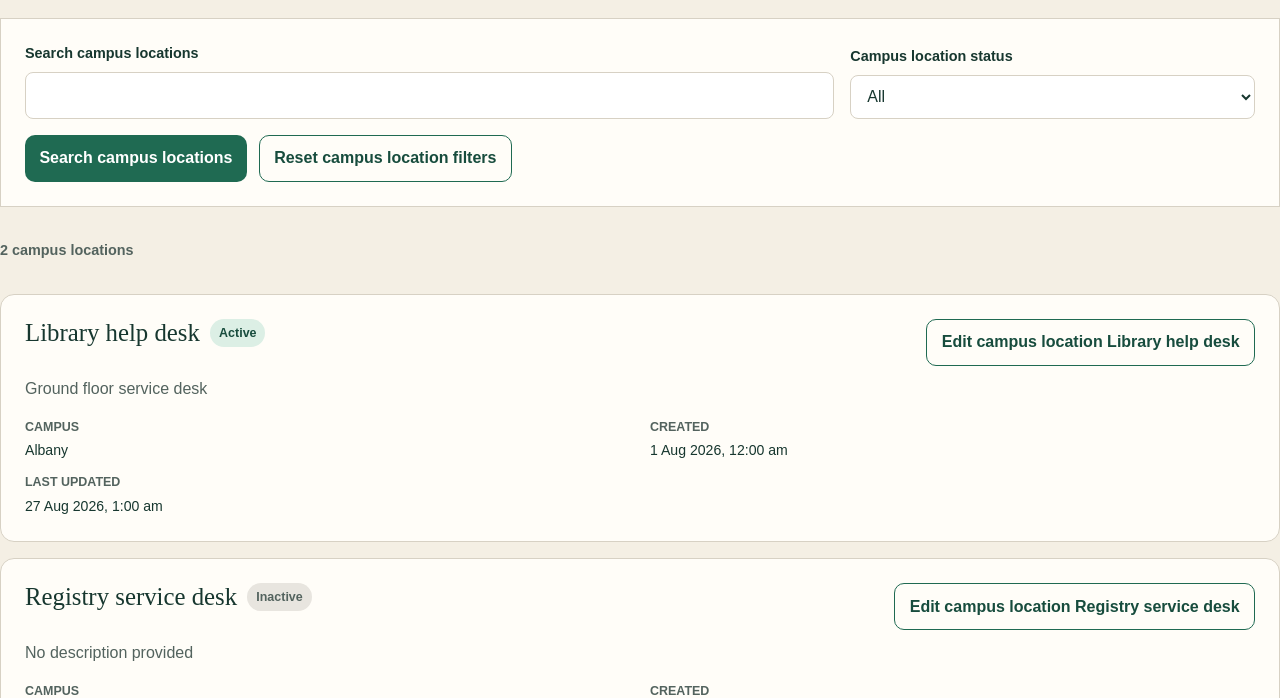
Test case: closes a missing editor, refreshes the list and keeps duplicate drafts
(page scrolled)
Expected: the heading "Library help desk" is shown, [25,319,200,347]
Click the button "Edit campus location Library help desk" at (1091, 342), box [926,319,1255,366]
(page scrolled)
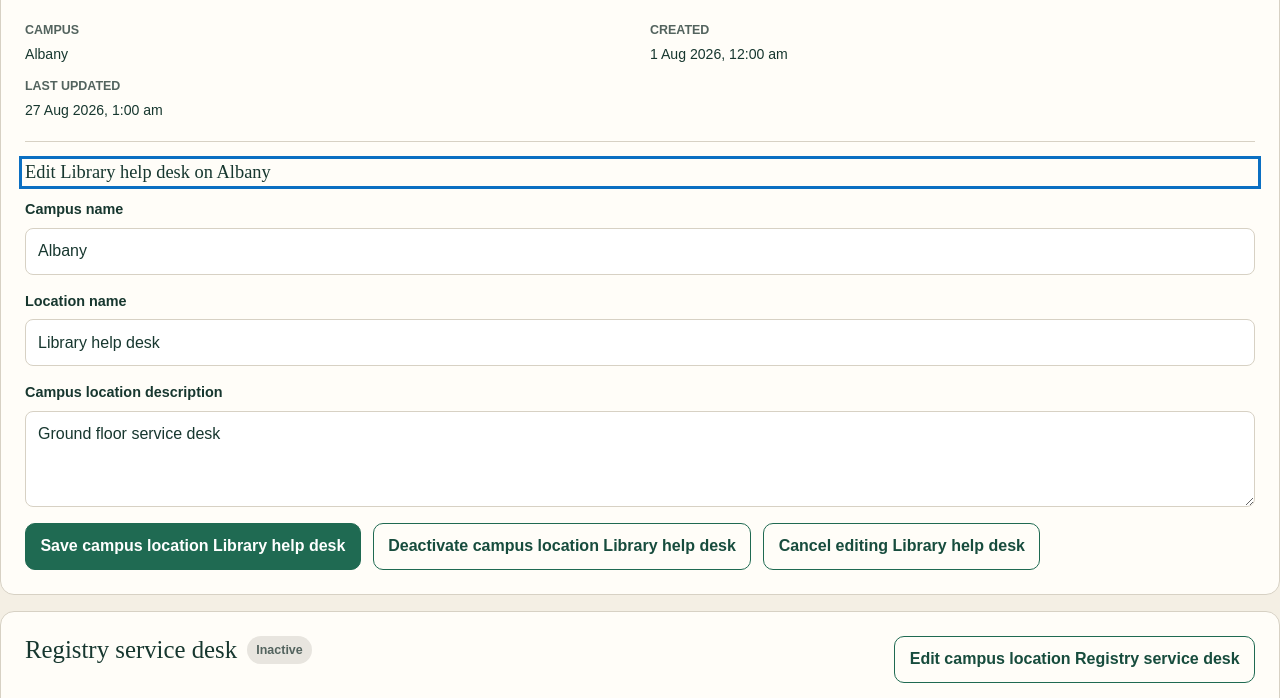
Replace the text in the field labelled "Location name" with "Registry service desk" at (640, 343), box [25,320,1255,366]
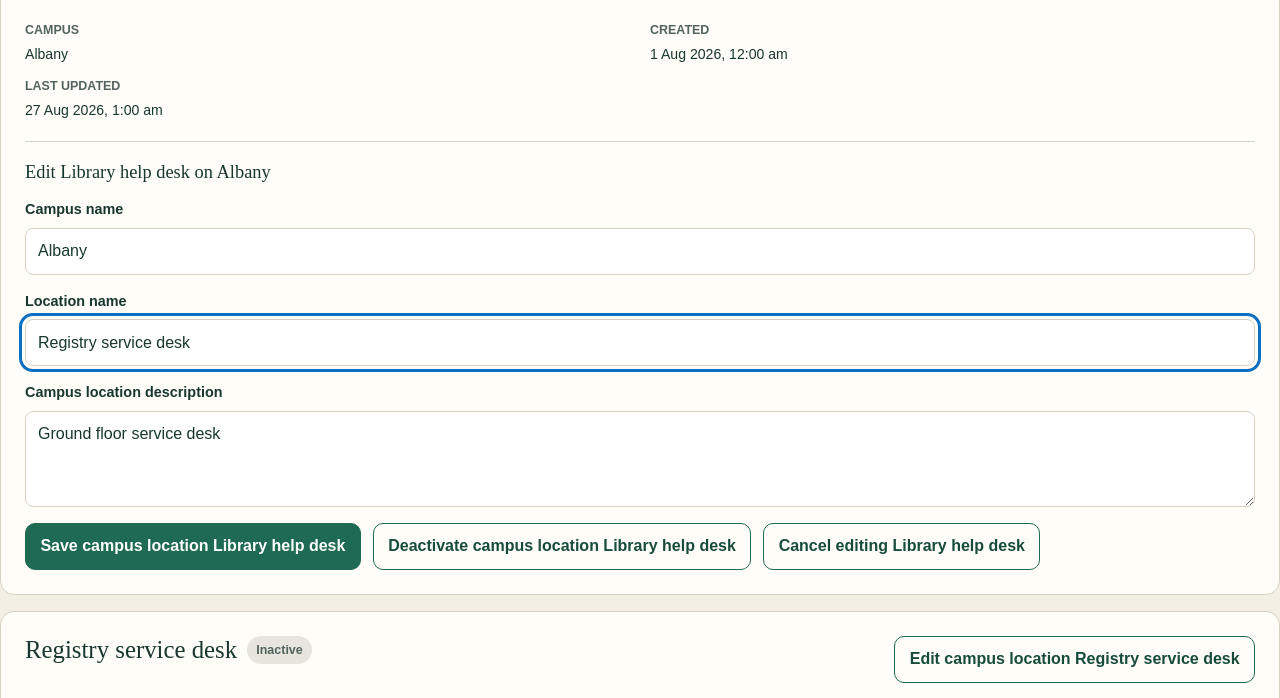
Click the button "Save campus location Library help desk" at (193, 546), box [25,523,361,570]
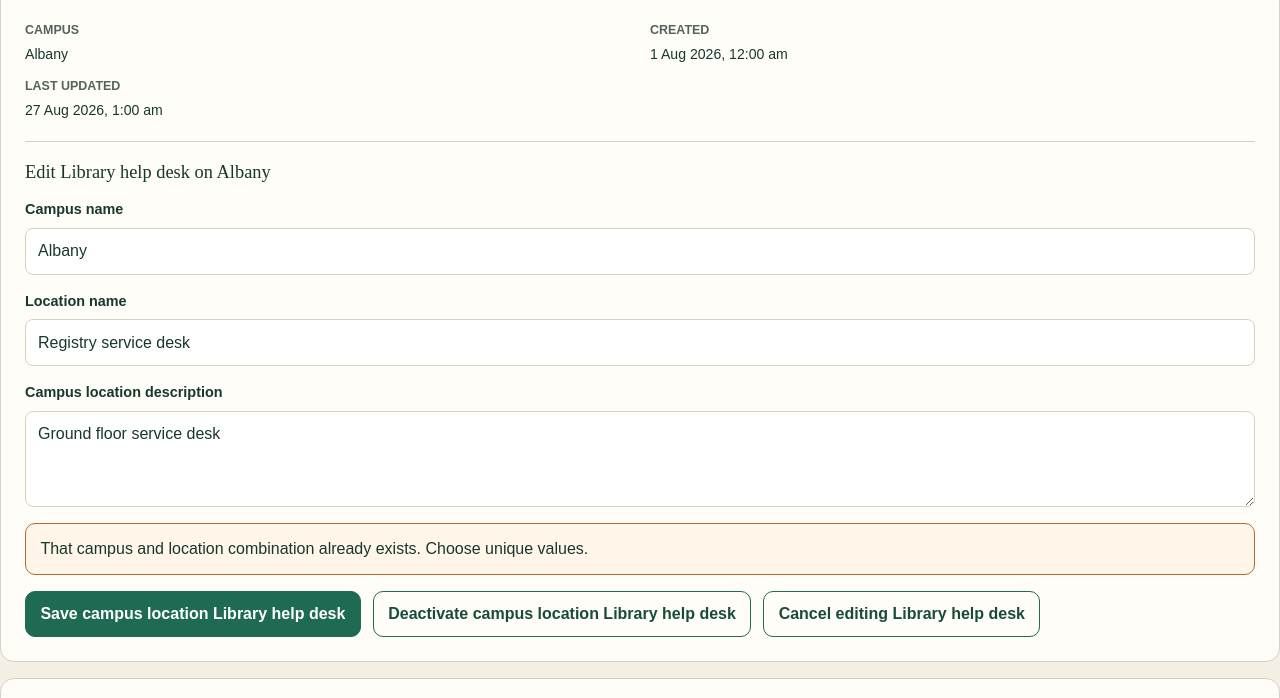
Expected: the message reads "That campus and location combination already exists. Choose unique values.", [40,540,588,557]
Click the button "Save campus location Library help desk" at (193, 614), box [25,591,361,638]
(page scrolled)
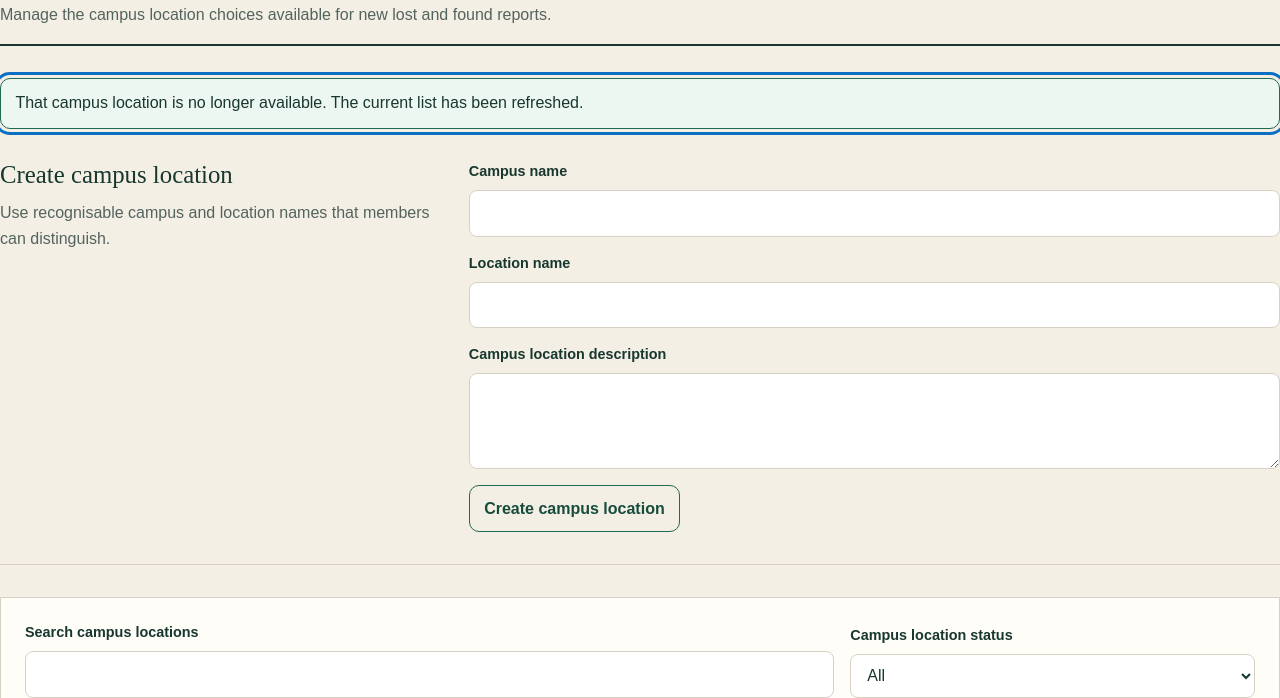
Expected: the form "Edit campus location Library help desk" is not shown
Expected: the text "That campus location is no longer available. The current list has been refreshed." is shown, [15,94,583,112]
